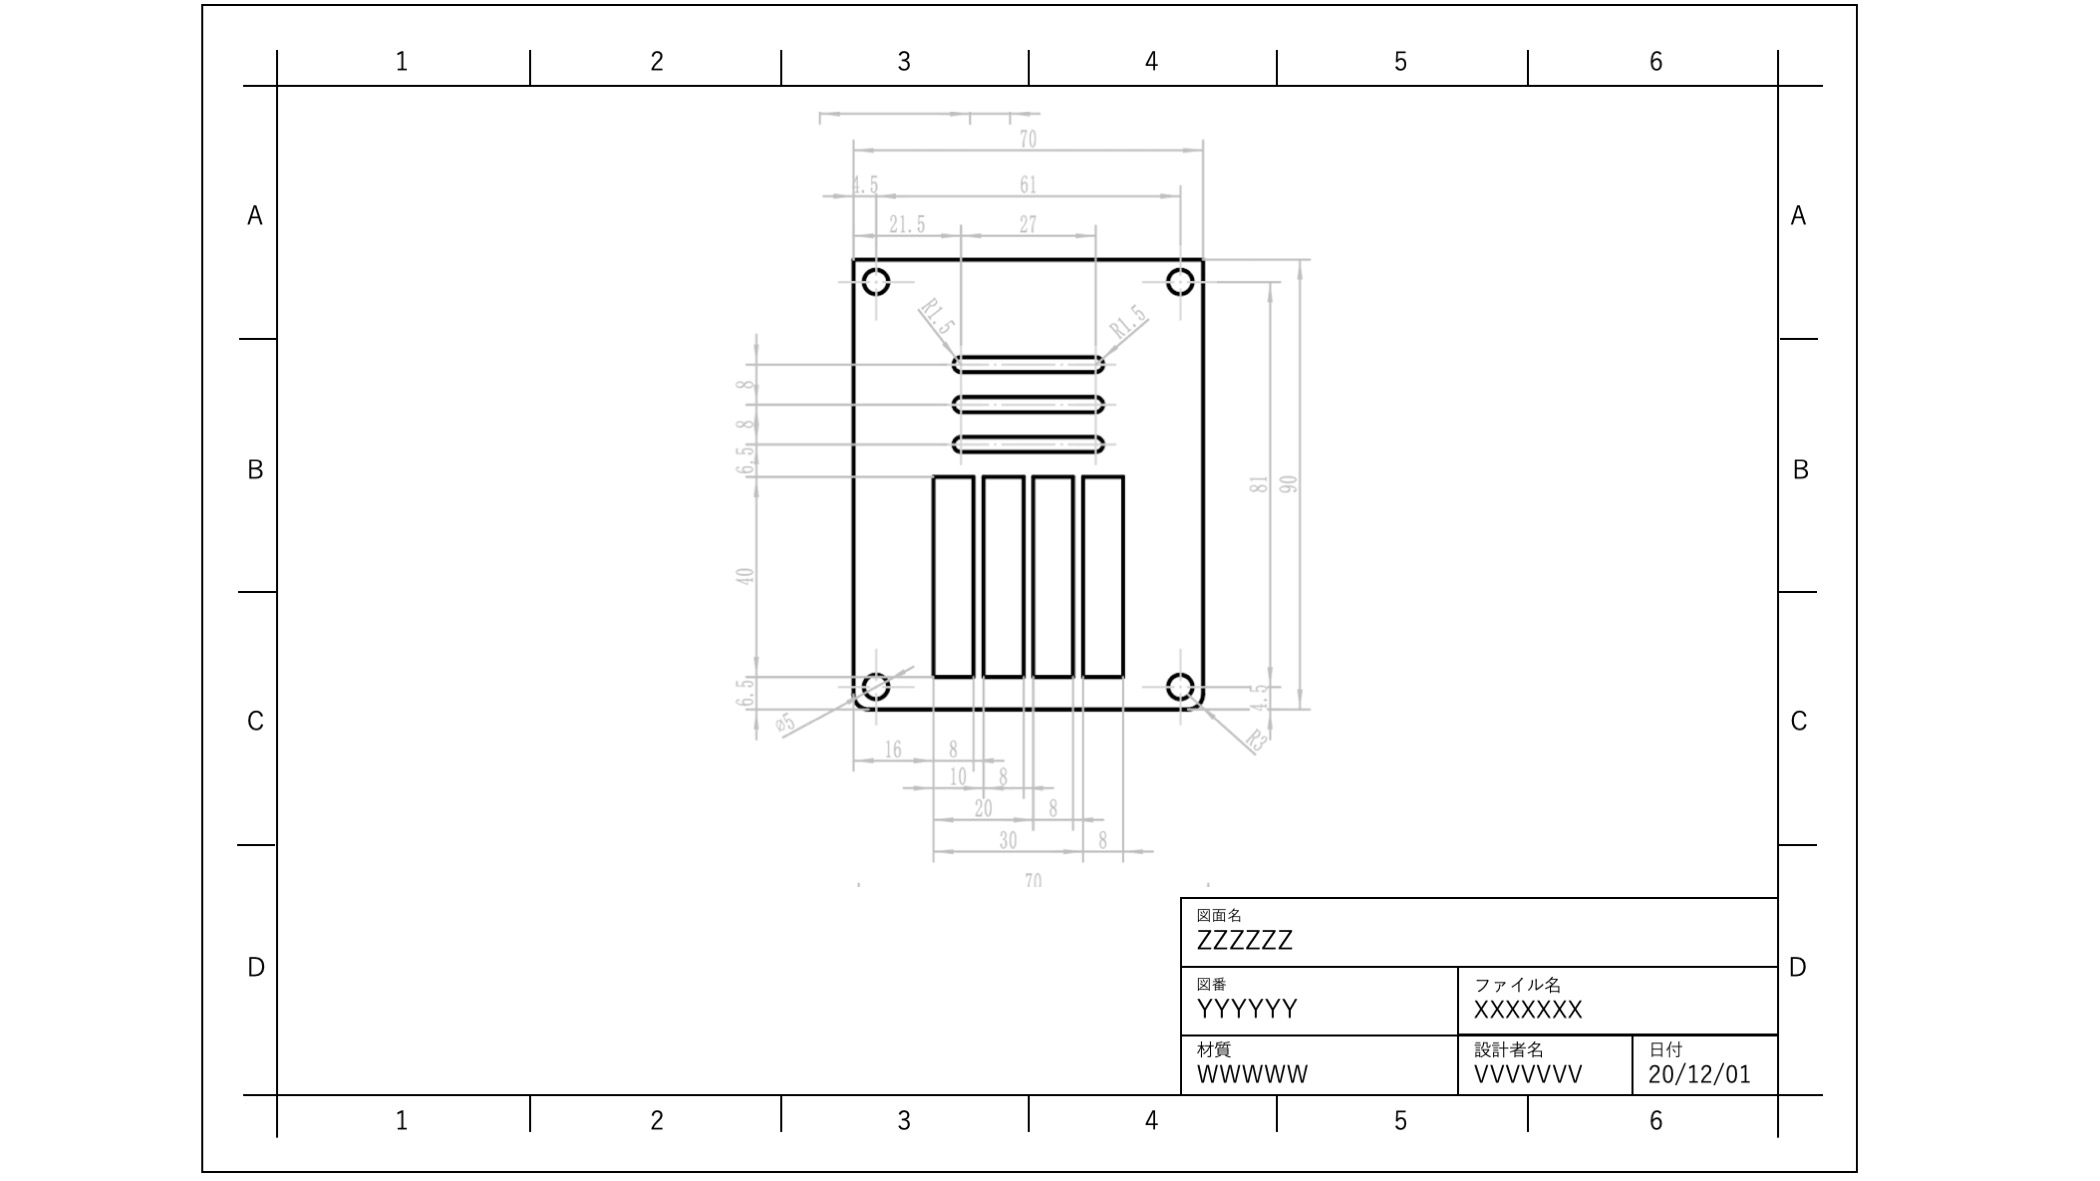circle: (1158, 660, 1204, 707), (1155, 262, 1201, 298), (855, 257, 893, 297), (858, 665, 896, 705)
rectangle: (1025, 459, 1085, 688), (1080, 466, 1134, 685), (976, 464, 1025, 686), (930, 460, 978, 688)
round_rectangle: (942, 346, 1108, 382), (945, 391, 1119, 420), (942, 430, 1113, 457)
